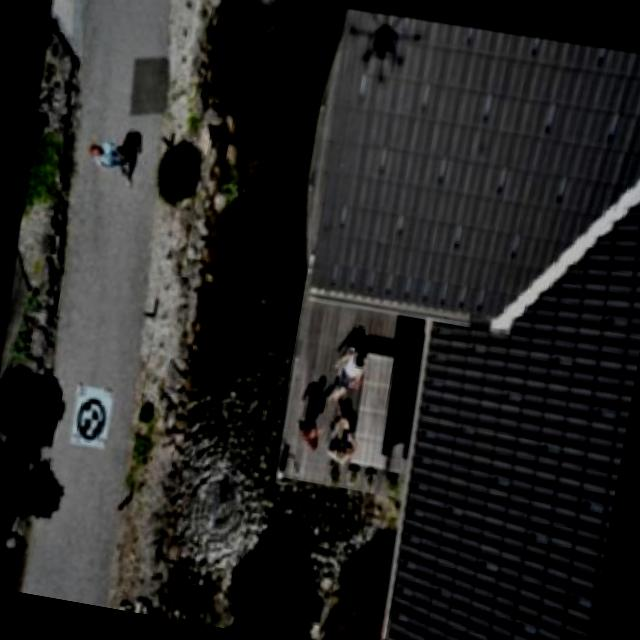Person: (79, 126, 145, 192), (324, 338, 374, 404), (324, 408, 360, 466), (286, 410, 330, 452)
